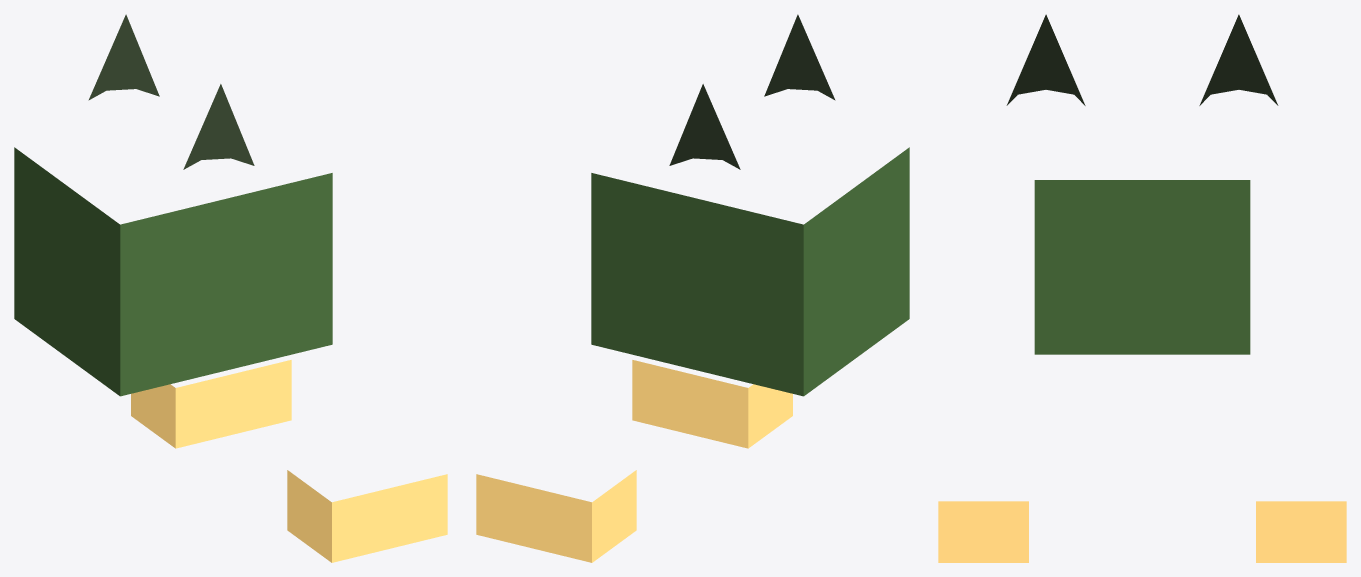
File: lone-druid.glb
3 views of the same model, side by side, from view 1: azimuth 30°, elevation 25°; view 2: azimuth 150°, elevation 25°; view 3: azimuth 270°, elevation 25° (orthographic).
Visible parts, largest first — view 1: lone-druid-fur-hood, lone-druid-bear-paw-l, lone-druid-bear-paw-r, lone-druid-ear-r, lone-druid-ear-l; view 2: lone-druid-fur-hood, lone-druid-bear-paw-r, lone-druid-bear-paw-l, lone-druid-ear-l, lone-druid-ear-r; view 3: lone-druid-fur-hood, lone-druid-bear-paw-l, lone-druid-bear-paw-r, lone-druid-ear-l, lone-druid-ear-r.
Boxes of the visible parts, x1,y1,x2,y2 form: lone-druid-fur-hood: (14, 147, 332, 396); lone-druid-bear-paw-l: (287, 470, 447, 562); lone-druid-bear-paw-r: (131, 360, 291, 448); lone-druid-ear-r: (88, 14, 159, 100); lone-druid-ear-l: (183, 84, 254, 169); lone-druid-fur-hood: (591, 147, 909, 396); lone-druid-bear-paw-r: (476, 470, 636, 562); lone-druid-bear-paw-l: (632, 360, 792, 448); lone-druid-ear-l: (764, 14, 835, 100); lone-druid-ear-r: (669, 84, 740, 169); lone-druid-fur-hood: (1034, 180, 1250, 354); lone-druid-bear-paw-l: (938, 501, 1028, 562); lone-druid-bear-paw-r: (1256, 501, 1346, 562); lone-druid-ear-l: (1006, 14, 1085, 105); lone-druid-ear-r: (1199, 14, 1278, 105).
Size of the model in its own units: 0.58 by 0.9 by 0.72.
